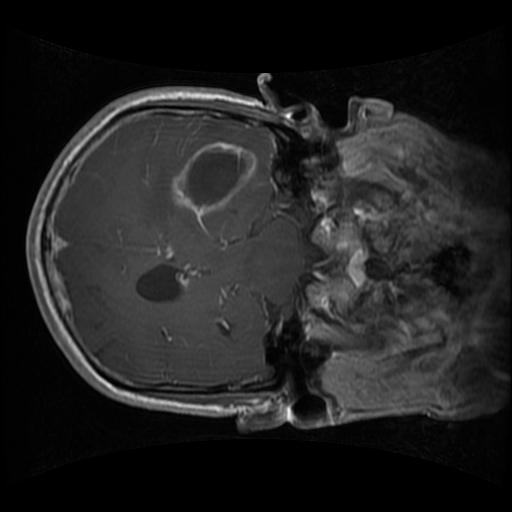glioma: (167, 141, 259, 219)
